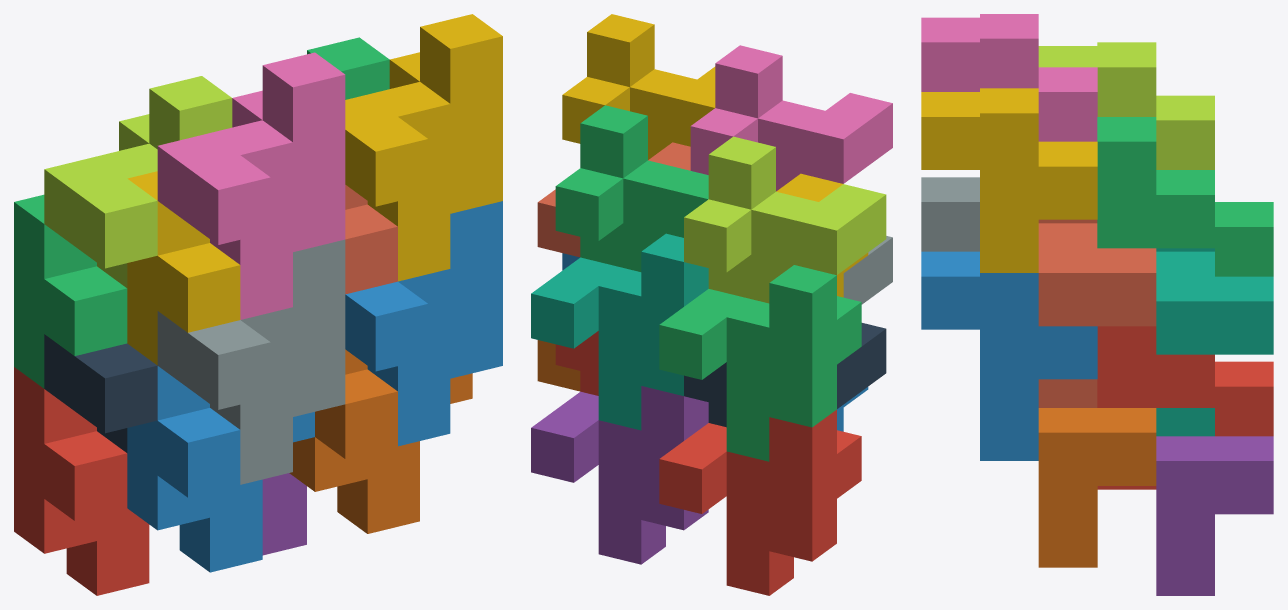
File: tiling.obj
The picture shows the model from 3 angles, left to right: view 1: azimuth 30°, elevation 25°; view 2: azimuth 150°, elevation 25°; view 3: azimuth 270°, elevation 25°; orthographic projection. The views are drawn at different scales.
Visible parts, largest first — view 1: copy_2_domain_4, copy_2_domain_8, copy_2_domain_2, copy_2_domain_6, copy_1_domain_1, copy_1_domain_2, copy_2_domain_3, copy_1_domain_6, copy_1_domain_3, copy_1_domain_4, copy_2_domain_1, copy_1_domain_8 (+2 smaller); view 2: copy_1_domain_3, copy_1_domain_1, copy_2_domain_3, copy_1_domain_7, copy_1_domain_5, copy_2_domain_4, copy_2_domain_7, copy_2_domain_8, copy_2_domain_1, copy_1_domain_8, copy_2_domain_2, copy_2_domain_5 (+2 smaller); view 3: copy_2_domain_8, copy_2_domain_6, copy_1_domain_6, copy_1_domain_5, copy_2_domain_4, copy_1_domain_8, copy_1_domain_7, copy_2_domain_7, copy_2_domain_3, copy_2_domain_5, copy_1_domain_1, copy_1_domain_3 (+1 smaller).
Boxes of the visible parts, box(x1,y1,x2,y2) form: copy_2_domain_4: box(157, 52, 345, 319); copy_2_domain_8: box(345, 14, 502, 281); copy_2_domain_2: box(157, 239, 345, 484); copy_2_domain_6: box(345, 201, 502, 446); copy_1_domain_1: box(14, 367, 149, 595); copy_1_domain_2: box(127, 366, 314, 572); copy_2_domain_3: box(44, 76, 232, 287); copy_1_domain_6: box(289, 349, 472, 533); copy_1_domain_3: box(14, 194, 127, 388); copy_1_domain_4: box(127, 171, 240, 365); copy_2_domain_1: box(44, 334, 157, 452); copy_1_domain_8: box(345, 185, 397, 294); copy_1_domain_3: box(659, 265, 861, 461); copy_1_domain_1: box(659, 409, 861, 595); copy_2_domain_3: box(684, 136, 886, 303); copy_1_domain_7: box(531, 233, 708, 430); copy_1_domain_5: box(531, 386, 708, 564); copy_2_domain_4: box(690, 45, 892, 191); copy_2_domain_7: box(555, 105, 708, 271); copy_2_domain_8: box(562, 14, 715, 159); copy_2_domain_1: box(684, 323, 886, 427); copy_1_domain_8: box(537, 142, 690, 257); copy_2_domain_2: box(843, 236, 892, 304); copy_2_domain_5: box(555, 331, 598, 395); copy_2_domain_8: box(921, 88, 1097, 272); copy_2_domain_6: box(921, 251, 1097, 460); copy_1_domain_6: box(1038, 408, 1156, 567); copy_1_domain_5: box(1156, 436, 1273, 595); copy_2_domain_4: box(921, 14, 1097, 141); copy_1_domain_8: box(1038, 219, 1156, 407); copy_1_domain_7: box(1156, 248, 1273, 436); copy_2_domain_7: box(1097, 117, 1214, 248); copy_2_domain_3: box(1038, 42, 1214, 169); copy_2_domain_5: box(1097, 326, 1214, 489); copy_1_domain_1: box(1215, 361, 1273, 436); copy_1_domain_3: box(1215, 202, 1273, 276).
Size of the model in its own units: 7 by 10 by 6.
